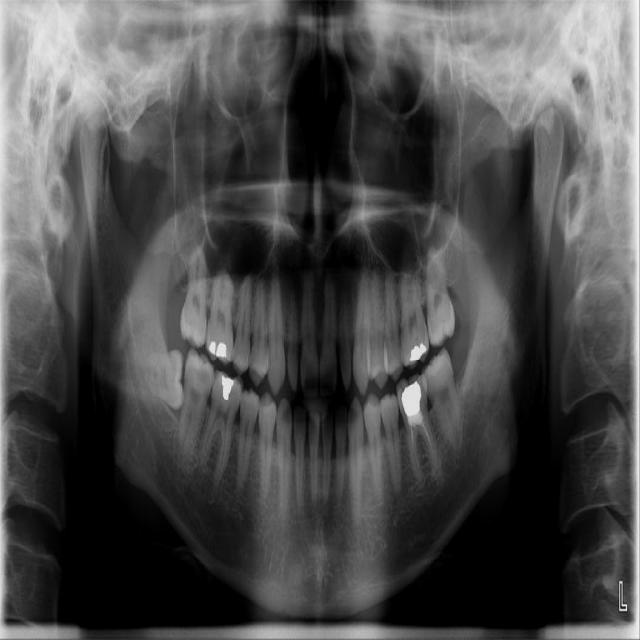Filling: (402, 380, 424, 430), (222, 376, 234, 401), (410, 344, 426, 361), (216, 343, 227, 358), (209, 342, 216, 356)
Root Canal Treatment: (422, 428, 434, 456), (412, 430, 417, 471)
impacted tooth: (134, 351, 184, 406)
